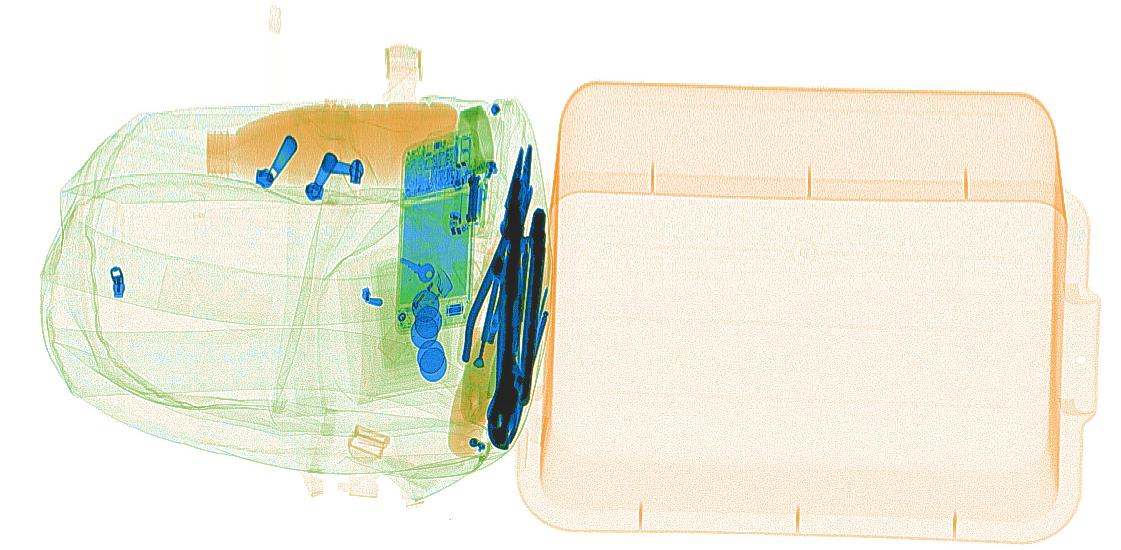lighter: (374, 267, 454, 364)
